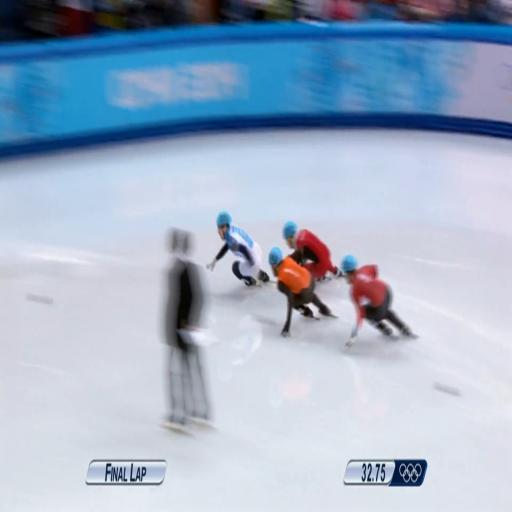Skater: (342, 255, 416, 347), (269, 247, 334, 336), (207, 211, 270, 286), (283, 221, 341, 280)
